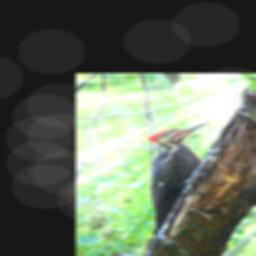Woodpecker: (145, 122, 210, 236)
